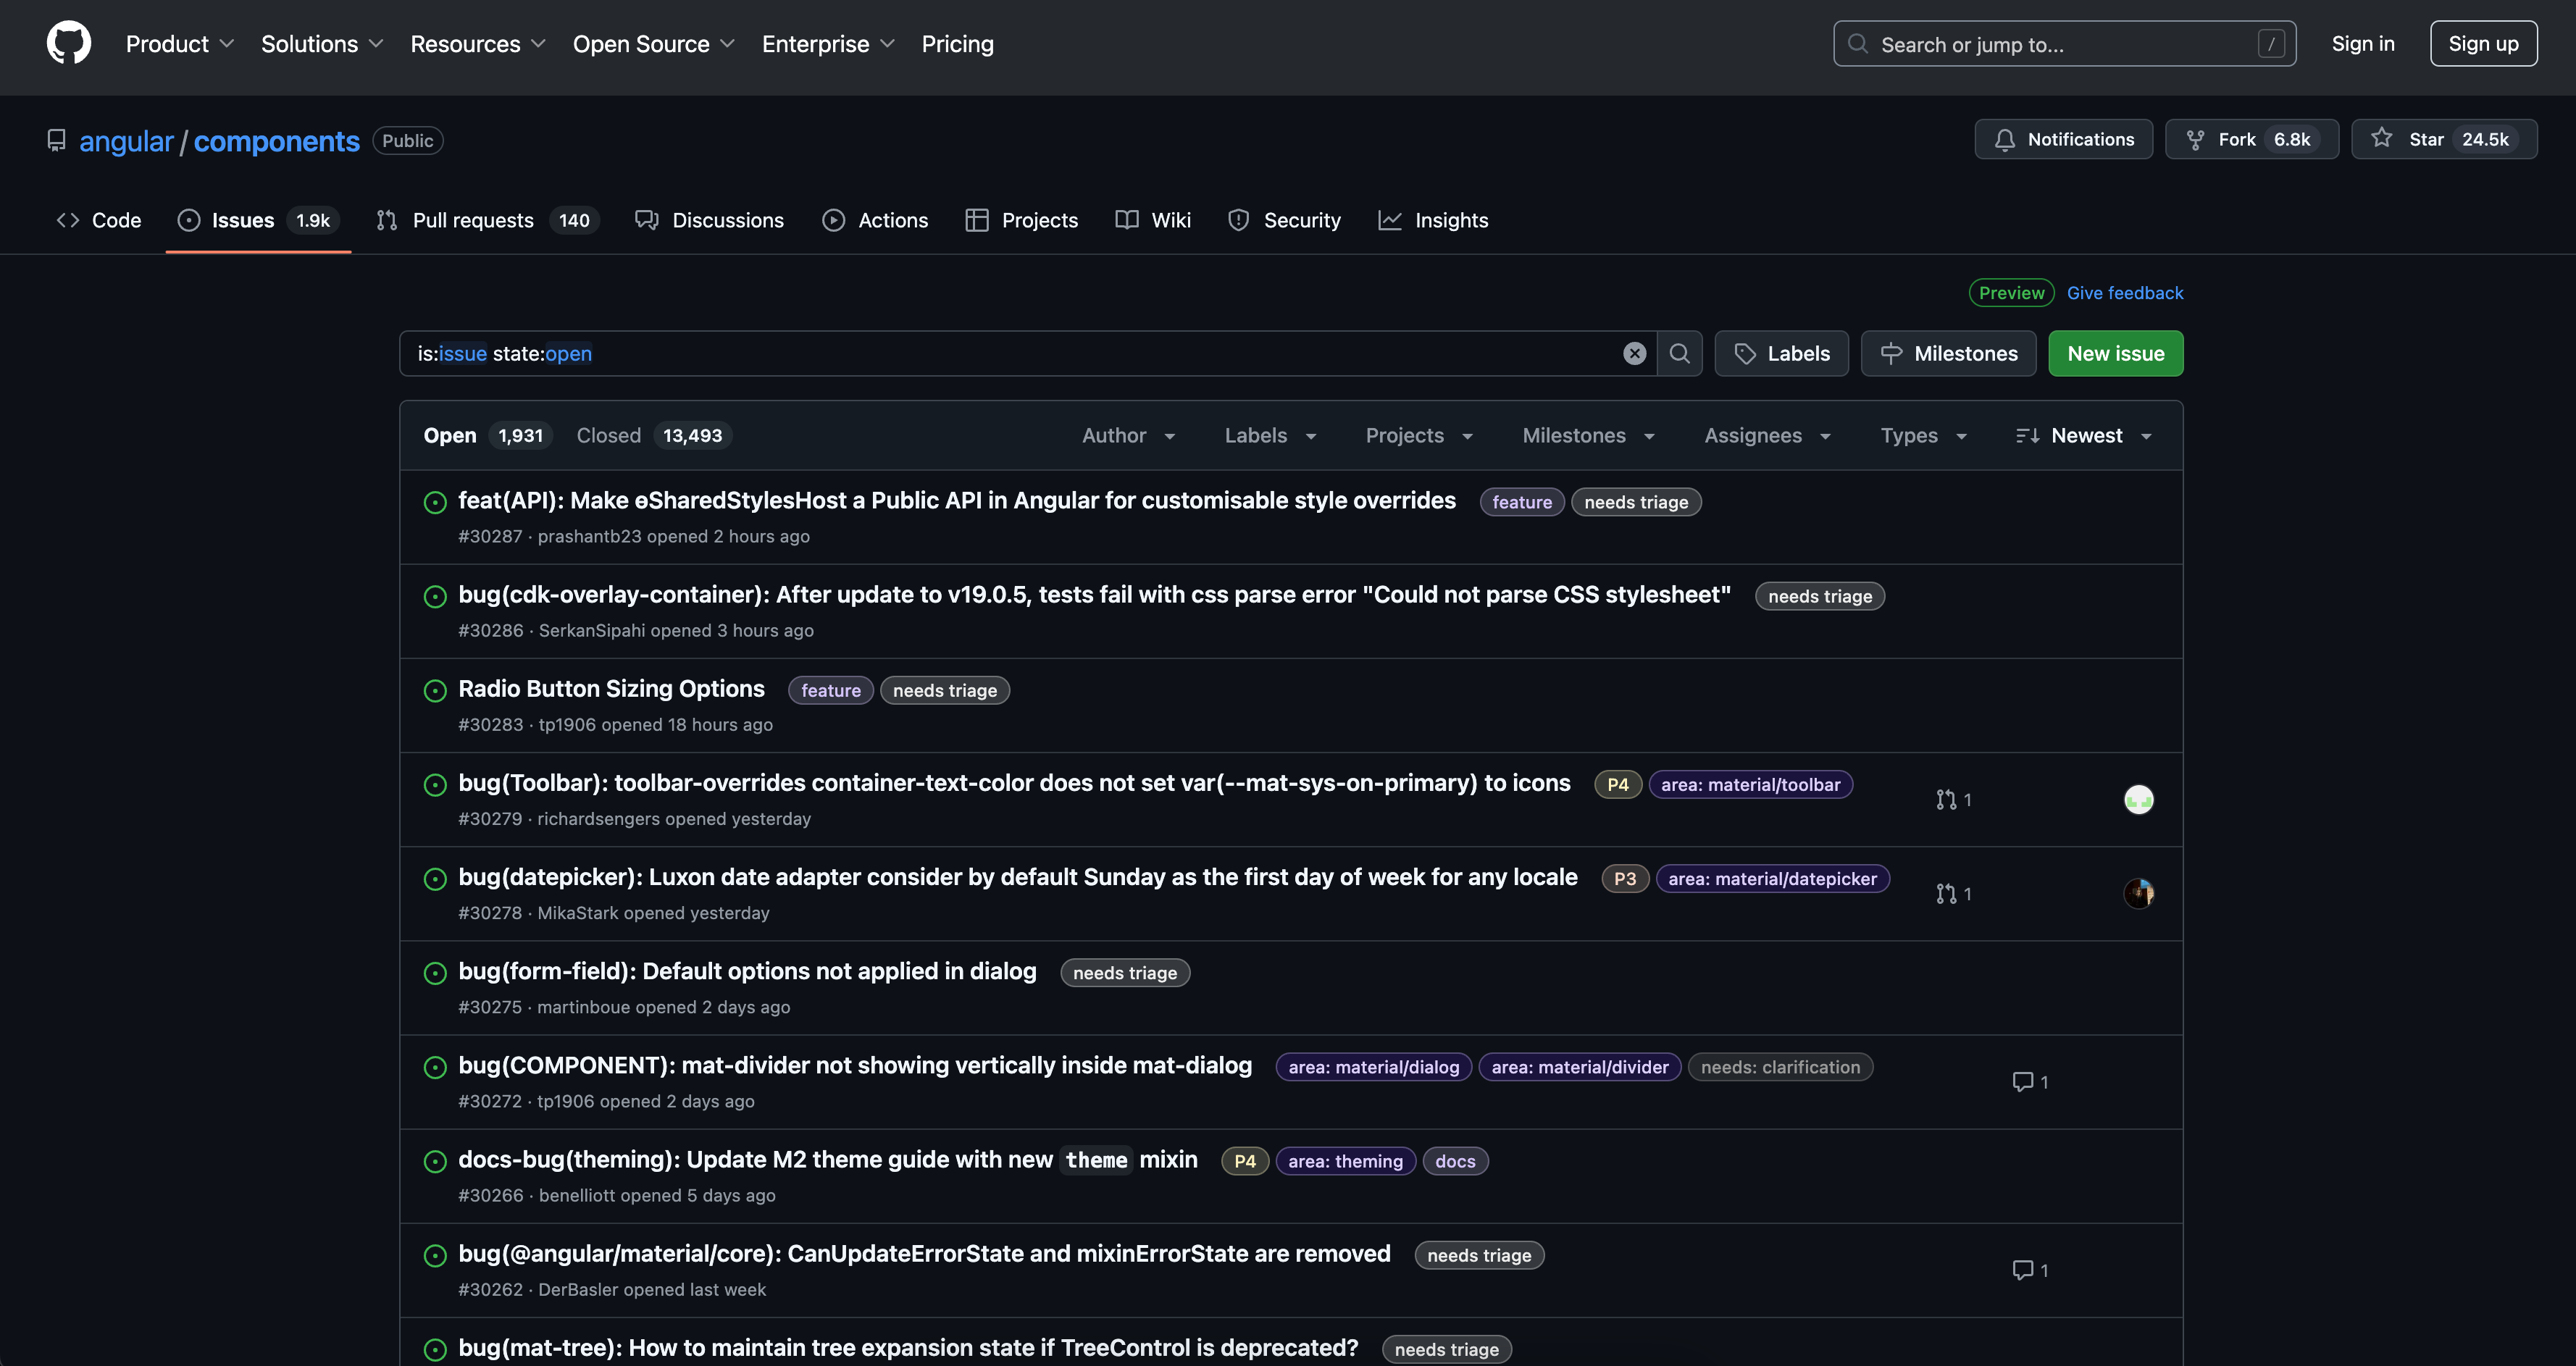button: (1860, 330, 2038, 376), (2351, 118, 2540, 160), (1975, 118, 2155, 160), (2165, 119, 2341, 160), (1716, 330, 1852, 378), (2050, 330, 2186, 378), (2429, 19, 2540, 70), (2067, 278, 2198, 312), (1956, 271, 2061, 312)
input: (397, 329, 1705, 378), (1833, 19, 2297, 68)
label: (1883, 36, 2070, 56), (1654, 332, 1704, 376)
